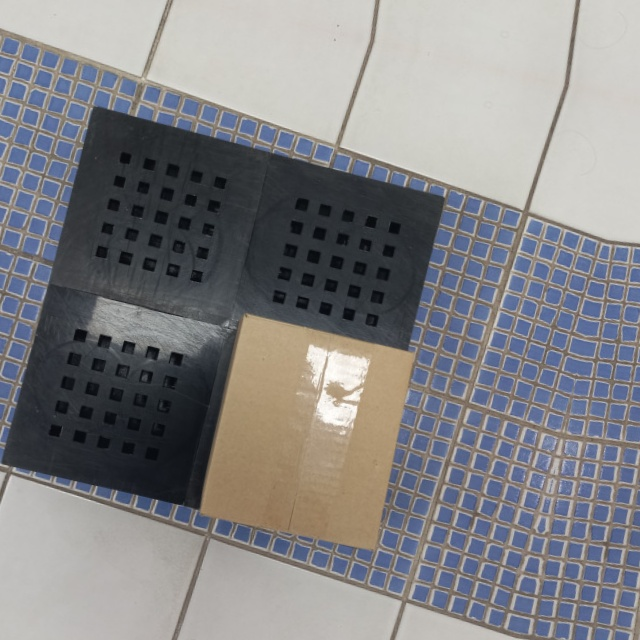box: (193, 309, 419, 554)
pallet: (1, 97, 451, 549)
